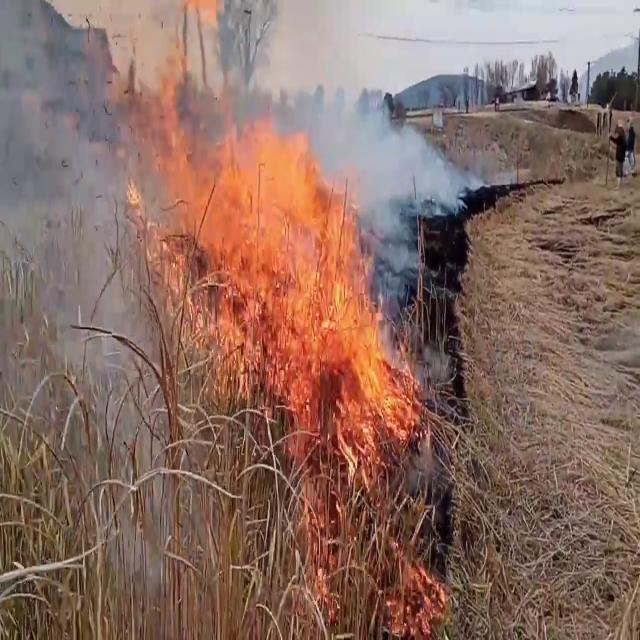Fire: (136, 109, 422, 455)
Smoke: (310, 92, 468, 218)
